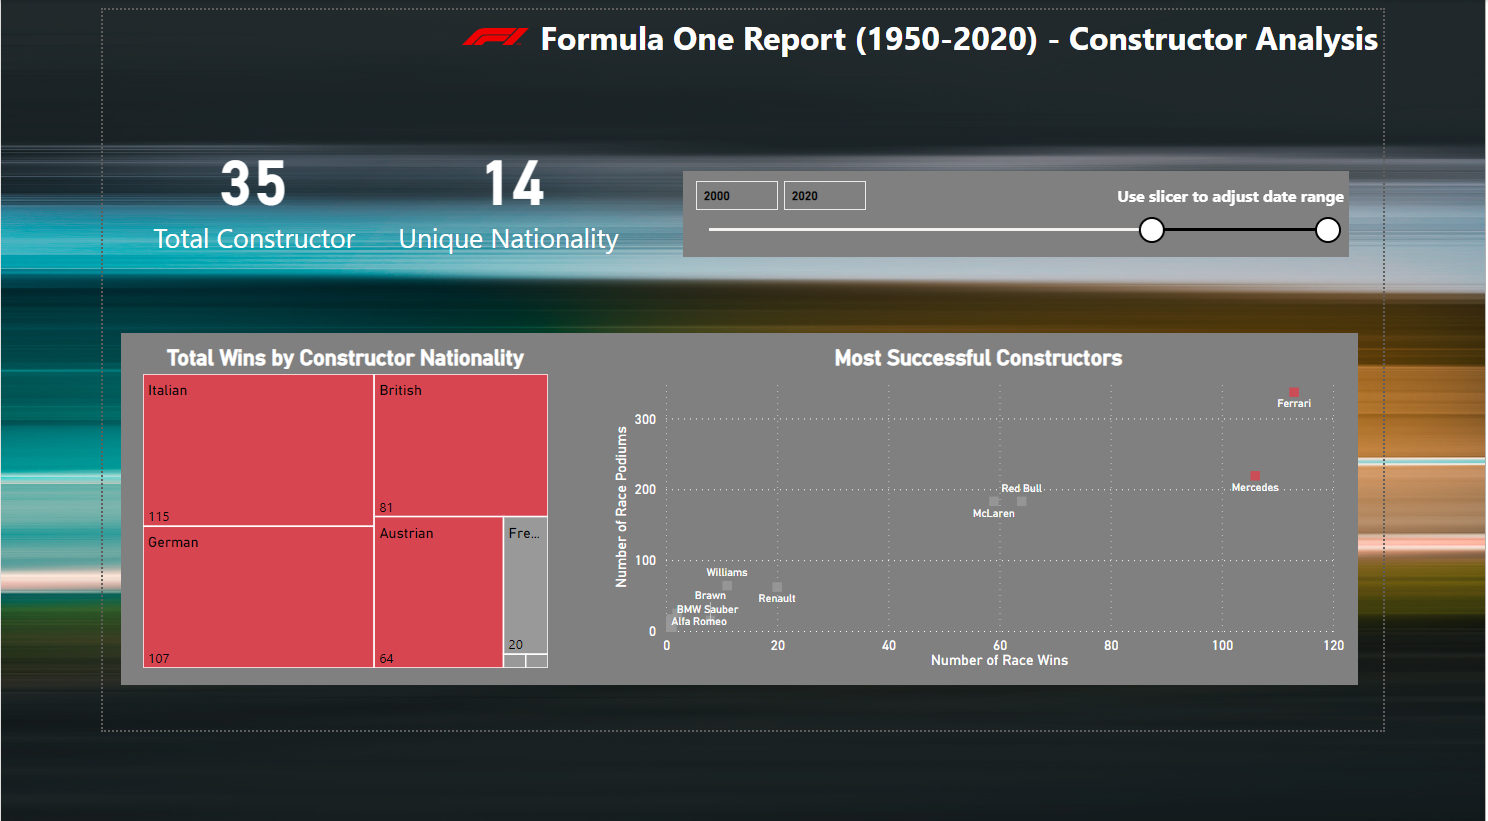

This screenshot's page, from the dashboard's own definition file:
{"tool":"powerbi","page":{"name":"Constructor Analysis Page","canvas":[1280,720],"ordinal":2},"visuals":[{"type":"shape","box":[18,323,1237,352],"z":0},{"type":"textbox","box":[290,0,990,53],"z":1000},{"type":"image","box":[354,0,77,53],"z":2000},{"type":"card","fields":{"Values":["Count(constructors.constructor_name)"]},"box":[25,97,252,171],"z":3000},{"type":"card","fields":{"Values":["Count(constructors.constructor_nationality)"]},"box":[277,97,264,171],"z":4000},{"type":"treemap","title":"Total Wins by Constructor Nationality","fields":{"Group":["constructors.constructor_nationality"],"Values":["Sum(results.race_wins)"]},"box":[35,335,415,328],"z":5000},{"type":"scatterChart","title":"Most Successful Constructors","fields":{"X":["Sum(results.race_wins)"],"Y":["Sum(results.race_podium)"],"Category":["constructors.constructor_name"]},"box":[505,335,741,328],"z":6000},{"type":"slicer","fields":{"Values":["races.date.Variation.Date Hierarchy.Year"]},"box":[580,161,666,86],"z":7000},{"type":"textbox","box":[998,170,248,34],"z":8000},{"type":"actionButton","box":[0,0,207,97],"z":9000}]}

Visuals, with their boxes in screenshot pixels (x1, y1, x2, y2), scaled from the page's 1280x720 canvas onto the 1488x821 screenshot:
shape: {"x1": 21, "y1": 368, "x2": 1459, "y2": 770}
textbox: {"x1": 337, "y1": 0, "x2": 1487, "y2": 60}
image: {"x1": 412, "y1": 0, "x2": 501, "y2": 60}
card - Count(constructors.constructor_name): {"x1": 29, "y1": 111, "x2": 322, "y2": 306}
card - Count(constructors.constructor_nationality): {"x1": 322, "y1": 111, "x2": 629, "y2": 306}
"Total Wins by Constructor Nationality" treemap: {"x1": 41, "y1": 382, "x2": 523, "y2": 756}
"Most Successful Constructors" scatterChart: {"x1": 587, "y1": 382, "x2": 1448, "y2": 756}
slicer - races.date.Variation.Date Hierarchy.Year: {"x1": 674, "y1": 184, "x2": 1448, "y2": 282}
textbox: {"x1": 1160, "y1": 194, "x2": 1448, "y2": 233}
actionButton: {"x1": 0, "y1": 0, "x2": 241, "y2": 111}
